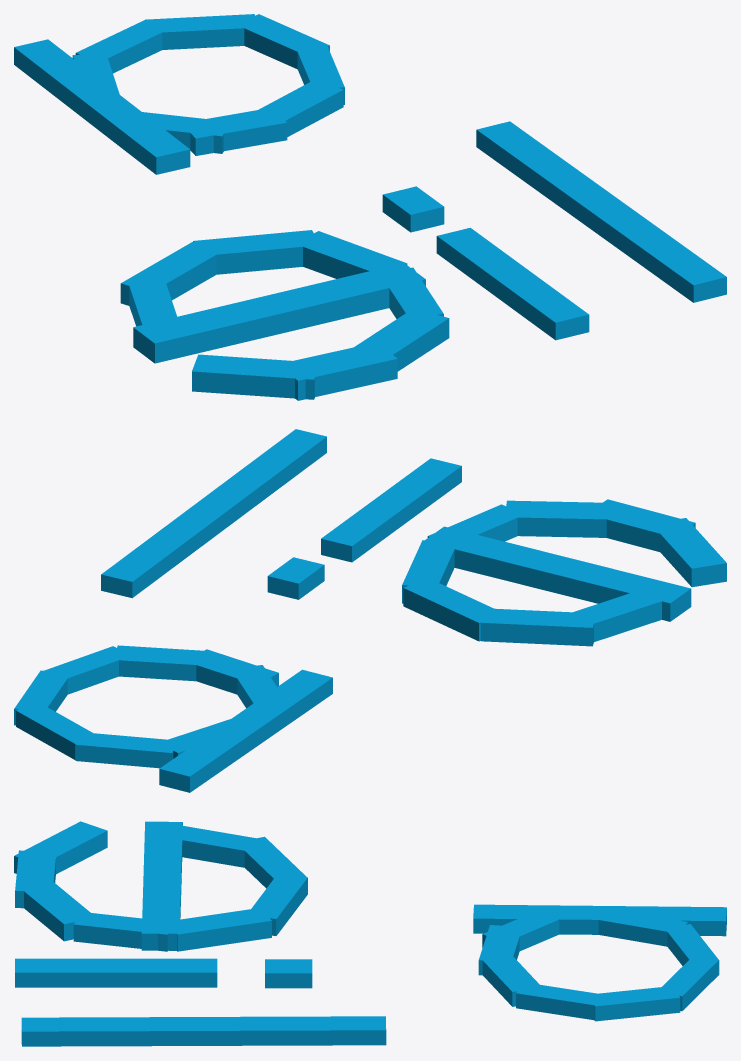
The model's file is lie.dae.
The picture shows the model from 3 angles, top to bottom: view 1: azimuth 30°, elevation 25°; view 2: azimuth 150°, elevation 25°; view 3: azimuth 270°, elevation 25°; orthographic projection. The views are drawn at different scales.
Visible parts, largest first — view 1: Cube.018, Cube.043, Cube.017, Cube.039, Cube.048, Cube.047, Cube.040, Cube.046, Cube.041, Cube.044, Cube.019, Cube.025 (+9 smaller); view 2: Cube.018, Cube.043, Cube.017, Cube.039, Cube.041, Cube.046, Cube.040, Cube.020, Cube.024, Cube.048, Cube.047, Cube.000 (+9 smaller); view 3: Cube.018, Cube.039, Cube.043, Cube.017, Cube.044, Cube.022, Cube.046, Cube.045, Cube.023, Cube.048, Cube.021, Cube.000 (+9 smaller).
Part boxes in pixels (x1,y1,x2,y2): Cube.018: [476, 121, 726, 302]; Cube.043: [133, 264, 425, 363]; Cube.017: [14, 39, 190, 174]; Cube.039: [436, 227, 589, 340]; Cube.048: [192, 354, 320, 399]; Cube.047: [279, 342, 397, 400]; Cube.040: [193, 230, 315, 274]; Cube.046: [350, 309, 449, 371]; Cube.041: [120, 242, 220, 305]; Cube.044: [294, 231, 407, 278]; Cube.019: [148, 14, 258, 49]; Cube.025: [181, 110, 287, 155]; Cube.018: [101, 429, 326, 598]; Cube.043: [425, 526, 691, 621]; Cube.017: [159, 669, 332, 792]; Cube.039: [321, 458, 461, 562]; Cube.041: [481, 608, 596, 646]; Cube.046: [505, 500, 615, 537]; Cube.040: [403, 578, 503, 641]; Cube.020: [75, 732, 177, 768]; Cube.024: [113, 645, 212, 681]; Cube.048: [659, 518, 726, 587]; Cube.047: [592, 499, 695, 551]; Cube.000: [573, 593, 661, 641]; Cube.018: [21, 1016, 386, 1046]; Cube.039: [15, 958, 217, 987]; Cube.043: [141, 821, 182, 950]; Cube.017: [473, 904, 726, 936]; Cube.044: [172, 907, 271, 951]; Cube.022: [589, 986, 680, 1021]; Cube.046: [18, 879, 90, 941]; Cube.045: [73, 912, 168, 951]; Cube.023: [516, 983, 604, 1020]; Cube.048: [14, 821, 107, 874]; Cube.021: [597, 908, 687, 946]; Cube.000: [155, 823, 255, 867].
Bounding box in the file's own units: 9.11 × 13.18 × 0.3487.
